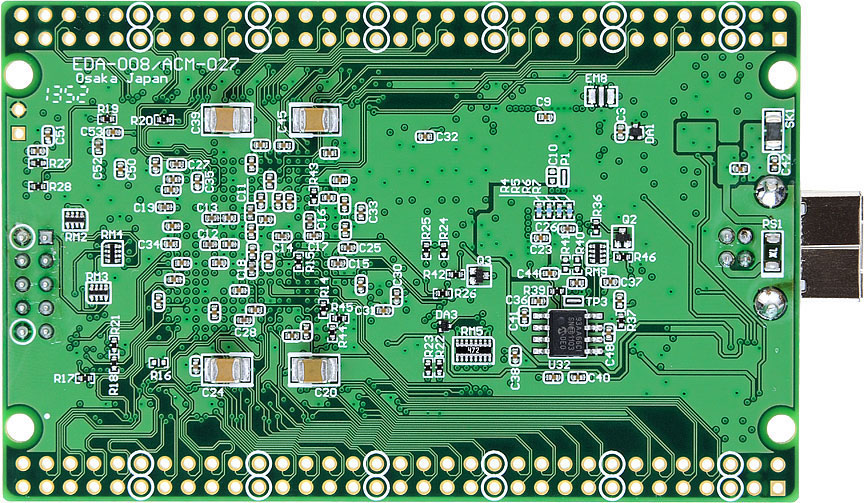capacitor C11: (245, 203, 256, 221)
capacitor C12: (201, 239, 219, 250)
capacitor C13: (155, 202, 175, 213), (203, 213, 220, 224)
capacitor C14: (273, 231, 292, 242)
capacitor C15: (329, 257, 346, 269)
capacitor C16: (304, 213, 315, 231)
capacitor C17: (304, 231, 324, 241)
capacitor C18: (248, 261, 257, 277)
capacitor C20: (289, 354, 339, 387)
capacitor C23: (531, 233, 550, 244)
capacitor C24: (202, 355, 252, 386)
capacitor C25: (338, 241, 357, 253)
capacitor C26: (559, 224, 577, 234)
capacitor C27: (169, 159, 186, 170)
capacitor C28: (235, 315, 254, 326)
capacitor C3: (614, 122, 627, 143)
capacitor C30: (391, 287, 402, 306)
capacitor C31: (375, 305, 393, 316)
capacitor C32: (415, 131, 435, 143)
capacitor C33: (355, 203, 367, 224)
capacitor C34: (162, 238, 180, 250)
capacitor C35: (193, 173, 203, 192)
capacitor C36: (530, 295, 547, 307)
capacitor C37: (603, 277, 619, 288)
capacitor C38: (510, 346, 521, 365)
capacitor C39: (202, 105, 253, 135)
capacitor C40: (570, 372, 587, 383)
capacitor C41: (519, 306, 530, 325)
capacitor C42: (769, 154, 780, 173)
capacitor C44: (540, 268, 559, 279)
capacitor C45: (291, 105, 341, 135)
capacitor C48: (604, 324, 614, 343)
capacitor C50: (115, 160, 126, 180)
capacitor C51: (43, 126, 54, 145)
capacitor C52: (94, 138, 105, 156)
capacitor C53: (106, 127, 123, 138)
capacitor C9: (536, 112, 555, 123)
capacitor unknown: (251, 139, 270, 152), (246, 304, 266, 316), (209, 257, 229, 269), (319, 147, 339, 159), (338, 194, 350, 214), (339, 219, 351, 239), (543, 371, 563, 383), (301, 321, 312, 342), (614, 290, 625, 311), (153, 292, 165, 311), (230, 285, 249, 297), (150, 156, 162, 175), (284, 192, 296, 211), (190, 356, 201, 376), (219, 239, 239, 250), (161, 185, 181, 196), (246, 154, 257, 174), (273, 192, 284, 212), (246, 221, 257, 241), (356, 275, 367, 295), (283, 330, 301, 342), (221, 212, 239, 224), (165, 274, 184, 285), (163, 221, 182, 232), (209, 303, 220, 322), (319, 192, 338, 203), (263, 252, 274, 271), (730, 163, 749, 174), (256, 191, 266, 211), (331, 175, 349, 186), (257, 214, 275, 225), (164, 174, 183, 184), (174, 258, 191, 269), (29, 146, 47, 156), (275, 141, 293, 151), (265, 172, 275, 190), (568, 278, 586, 288), (247, 243, 258, 259)
component text" "93AA66CI SN 1103 DE0: (558, 313, 583, 354)
component text" 472: (466, 345, 481, 354)
connector CNA: (8, 453, 796, 502)
connector CNB: (8, 1, 790, 51)
connector TP2: (7, 99, 31, 145)
diode zener array" DA1: (626, 121, 644, 140)
diode zener array" DA3: (436, 319, 452, 333)
ic U32: (529, 309, 605, 356)
pads C10: (547, 167, 558, 187)
pads EM8: (584, 87, 617, 106)
pads R16: (148, 356, 169, 368)
pins CN2: (1, 221, 57, 348)
pins unknown: (716, 224, 757, 274), (750, 283, 789, 326), (750, 173, 789, 208)
resistor R14: (319, 299, 328, 318)
resistor R15: (294, 252, 302, 271)
resistor R17: (76, 374, 94, 383)
resistor R18: (110, 354, 118, 372)
resistor R19: (98, 114, 116, 125)
resistor R20: (155, 114, 173, 125)
resistor R21: (110, 336, 119, 353)
resistor R22: (435, 357, 444, 379)
resistor R23: (423, 355, 433, 378)
resistor R24: (439, 239, 449, 259)
resistor R25: (421, 241, 430, 260)
resistor R26: (433, 289, 452, 298)
resistor R27: (28, 158, 47, 168)
resistor R28: (28, 182, 47, 191)
resistor R36: (591, 217, 601, 237)
resistor R37: (618, 313, 625, 330)
resistor R39: (547, 286, 566, 296)
resistor R4: (535, 201, 544, 220)
resistor R40: (572, 254, 582, 275)
resistor R41: (561, 255, 570, 275)
resistor R42: (446, 269, 465, 280)
resistor R43: (309, 187, 319, 206)
resistor R44: (329, 323, 337, 342)
resistor R45: (331, 314, 348, 323)
resistor R46: (615, 253, 632, 262)
resistor R5: (546, 201, 554, 219)
resistor R6: (556, 201, 564, 221)
resistor R7: (566, 202, 574, 220)
resistor network" RM2: (63, 210, 87, 231)
resistor network" RM3: (86, 282, 111, 303)
resistor network" RM4: (102, 241, 123, 266)
resistor network" RM5: (452, 338, 494, 364)
resistor network" RM9: (587, 241, 608, 265)
test point" P1: (560, 167, 569, 187)
test point" TP3: (564, 296, 583, 306)
text "EDA-008/ACM-027: (72, 56, 240, 73)
text "Osaka Japan: (75, 72, 170, 85)
text 1352: (44, 83, 90, 105)
text C10: (547, 143, 559, 166)
text C11: (235, 182, 247, 203)
text C12: (197, 228, 218, 239)
text C13: (196, 202, 218, 214)
text C14: (273, 243, 294, 254)
text C15: (347, 257, 371, 270)
text C16: (315, 207, 327, 230)
text C17: (308, 242, 329, 252)
text C18: (235, 257, 247, 281)
text C19: (133, 202, 156, 213)
text C20: (315, 387, 338, 400)
text C23: (529, 243, 553, 256)
text C24: (200, 385, 226, 398)
text C25: (358, 240, 382, 254)
text C26: (534, 221, 559, 232)
text C27: (187, 158, 212, 171)
text C28: (233, 326, 258, 338)
text C3: (614, 105, 627, 123)
text C30: (391, 263, 403, 287)
text C31: (354, 304, 375, 316)
text C32: (436, 130, 460, 143)
text C33: (368, 200, 380, 223)
text C34: (137, 239, 160, 250)
text C35: (204, 170, 215, 194)
text C36: (504, 294, 528, 305)
text C37: (620, 275, 645, 289)
text C38: (508, 367, 522, 391)
text C39: (190, 110, 201, 136)
text C40: (587, 371, 612, 384)
text C41: (507, 310, 519, 332)
text C42: (780, 152, 792, 176)
text C44: (516, 268, 539, 280)
text C45: (276, 109, 288, 134)
text C48: (603, 343, 616, 367)
text C50: (126, 158, 138, 181)
text C51: (54, 125, 66, 146)
text C52: (92, 157, 103, 180)
text C53: (80, 126, 105, 136)
text C9: (536, 95, 552, 107)
text DA1: (644, 123, 656, 145)
text DA3: (435, 308, 458, 320)
text EM8: (584, 72, 609, 85)
text P1: (559, 152, 570, 166)
text PS1: (760, 217, 785, 230)
text Q2: (622, 213, 641, 226)
text Q3: (476, 254, 492, 266)
text R14: (319, 276, 331, 299)
text R15: (303, 250, 316, 273)
text R16: (150, 370, 173, 382)
text R17: (52, 372, 76, 384)
text R18: (108, 373, 120, 397)
text R19: (97, 103, 120, 115)
text R20: (130, 115, 154, 126)
text R21: (110, 314, 121, 336)
text R22: (434, 333, 445, 358)
text R23: (423, 333, 434, 357)
text R24: (438, 216, 449, 240)
text R25: (420, 216, 432, 240)
text R26: (453, 286, 478, 300)
text R27: (49, 158, 71, 169)
text R28: (50, 181, 72, 191)
text R36: (591, 192, 603, 218)
text R37: (626, 308, 638, 333)
text R39: (524, 285, 546, 295)
text R4: (499, 177, 510, 194)
text R40: (574, 230, 585, 255)
text R41: (560, 235, 570, 255)
text R42: (422, 268, 446, 280)
text R43: (307, 162, 320, 185)
text R44: (337, 325, 349, 349)
text R45: (330, 300, 353, 312)
text R46: (633, 251, 658, 264)
text R5: (510, 177, 521, 195)
text R6: (522, 176, 531, 195)
text R7: (530, 178, 542, 194)
text RM2: (64, 232, 88, 243)
text RM3: (85, 271, 110, 282)
text RM4: (100, 228, 124, 240)
text RM5: (459, 324, 486, 336)
text SK1: (785, 108, 796, 129)
text TP3: (586, 295, 609, 309)
text U31: (544, 355, 571, 370)
transistor Q2: (613, 226, 633, 250)
transistor Q3: (468, 265, 491, 287)
unknown PS1: (762, 231, 783, 276)
unknown SK1: (764, 108, 784, 152)
